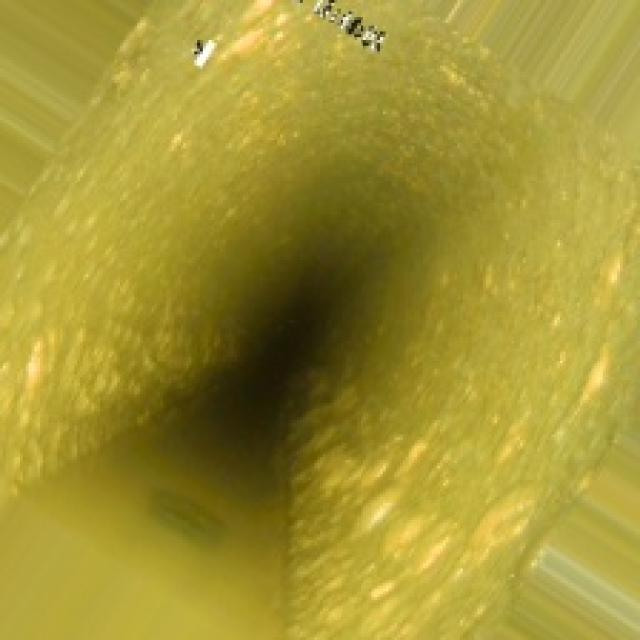encrustation: (60, 134, 506, 589)
